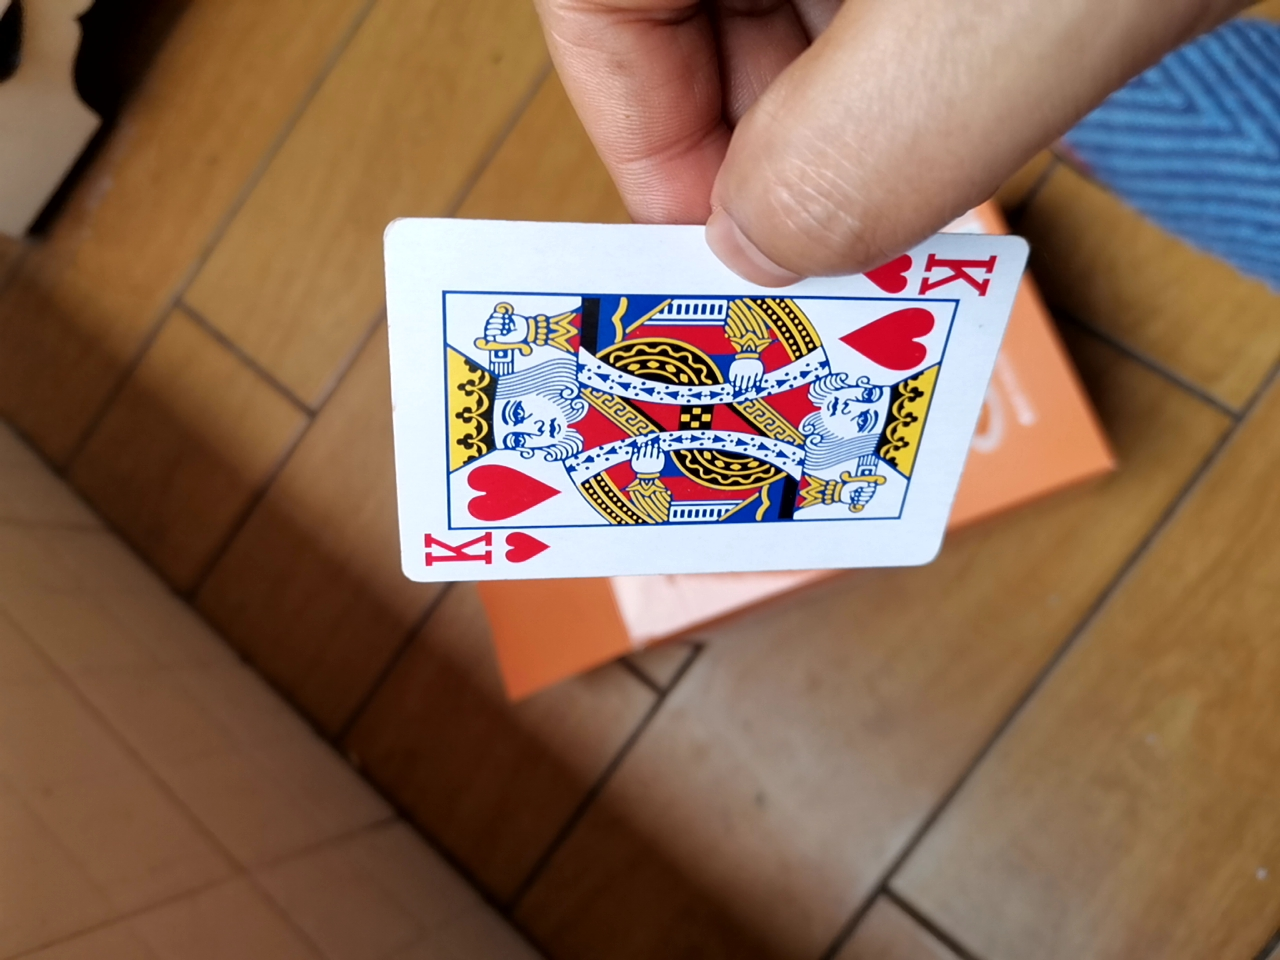hx k: (358, 216, 1026, 598)
